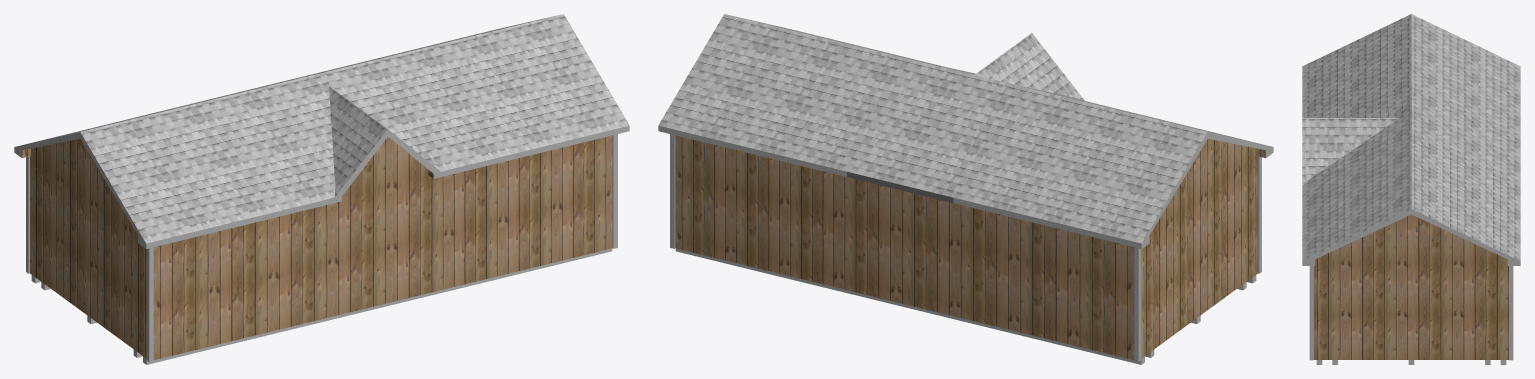
File: Victorian Shed_12x24.obj
The picture shows the model from 3 angles, left to right: view 1: azimuth 30°, elevation 25°; view 2: azimuth 150°, elevation 25°; view 3: azimuth 270°, elevation 25°; orthographic projection. The views are drawn at different scales.
Parts seen in each view (by area): view 1: Shed, Roof, Sides, Trim, Floor; view 2: Shed, Roof, Sides, Trim, Floor; view 3: Roof, Shed, Sides, Trim.
Boxes of the visible parts, box(x1,y1,x2,y2) form: Shed: box(22, 135, 612, 359); Roof: box(23, 14, 629, 243); Sides: box(14, 125, 629, 248); Trim: box(26, 134, 617, 361); Floor: box(31, 248, 612, 364); Shed: box(675, 135, 1265, 359); Roof: box(658, 14, 1264, 243); Sides: box(658, 125, 1273, 248); Trim: box(670, 134, 1261, 361); Floor: box(675, 248, 1256, 364); Roof: box(1302, 14, 1520, 260); Shed: box(1314, 214, 1508, 359); Sides: box(1302, 209, 1520, 265); Trim: box(1309, 266, 1513, 360).
Size of the model in its own units: 8.23 by 3.14 by 3.89.
